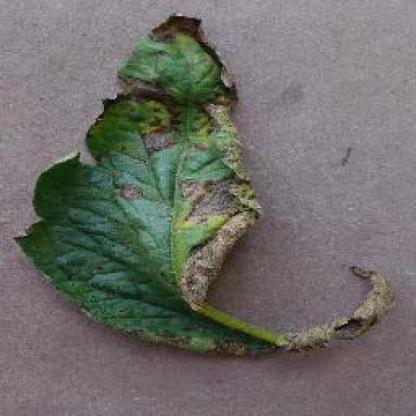Tomato_Blight: (21, 15, 396, 354)
